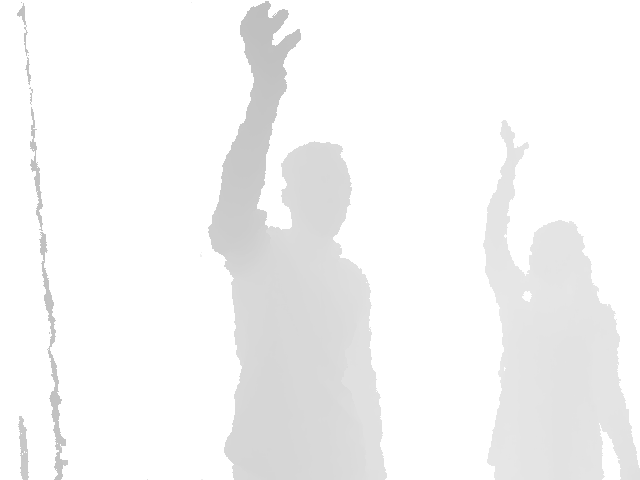hand: (238, 1, 302, 93), (499, 119, 530, 173)
head: (281, 140, 353, 242), (528, 219, 598, 298)
person: (207, 1, 390, 479), (482, 119, 640, 480)
